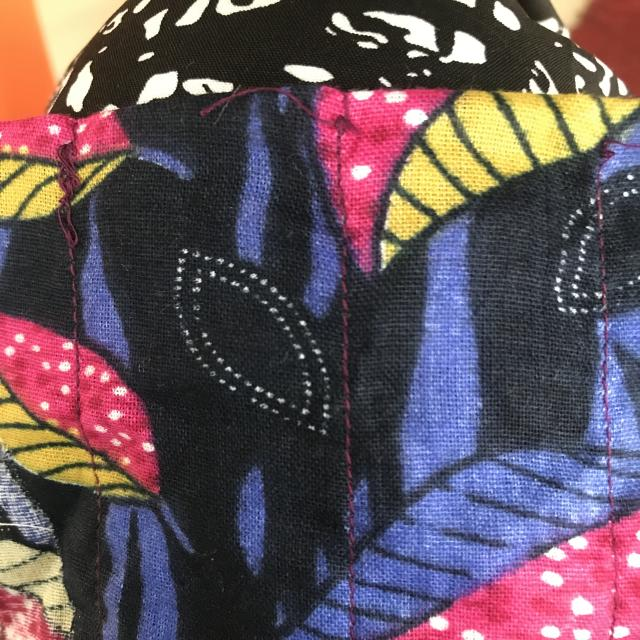good: (583, 321, 632, 516), (325, 279, 366, 479)
